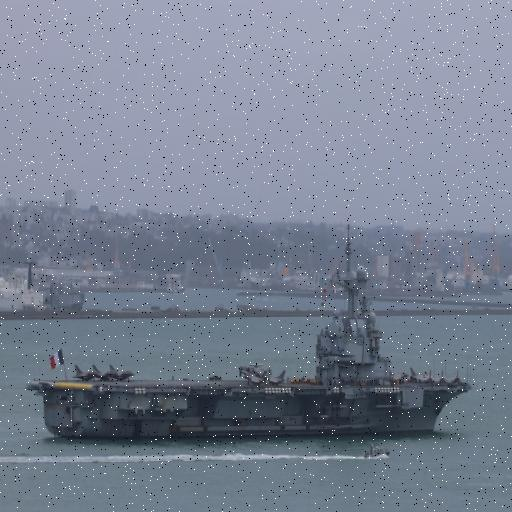Portanaves: (27, 216, 479, 445)
